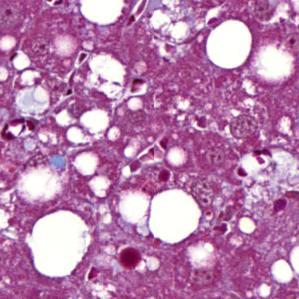steatosis: (208, 19, 257, 71)
